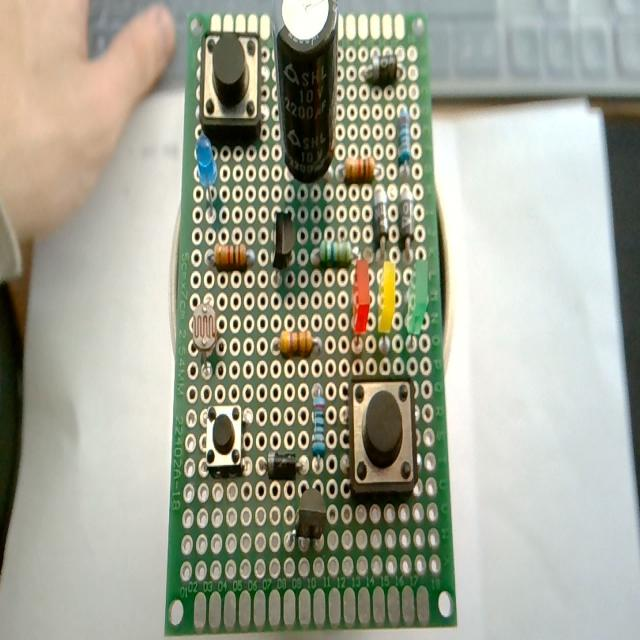Electrolytic capacitor: (268, 0, 339, 190)
cds: (180, 292, 228, 382)
diode: (357, 46, 407, 92), (255, 449, 312, 484), (369, 183, 393, 263), (396, 185, 419, 258)
led: (403, 255, 431, 364), (372, 252, 400, 358), (195, 132, 225, 226), (348, 256, 372, 364)
resistor: (389, 103, 417, 182), (308, 236, 364, 270), (202, 242, 256, 272), (272, 329, 326, 357), (332, 158, 384, 182)
switch: (345, 370, 419, 522), (197, 25, 266, 143), (202, 398, 250, 478)
transistor: (282, 483, 334, 568), (262, 195, 302, 284)
